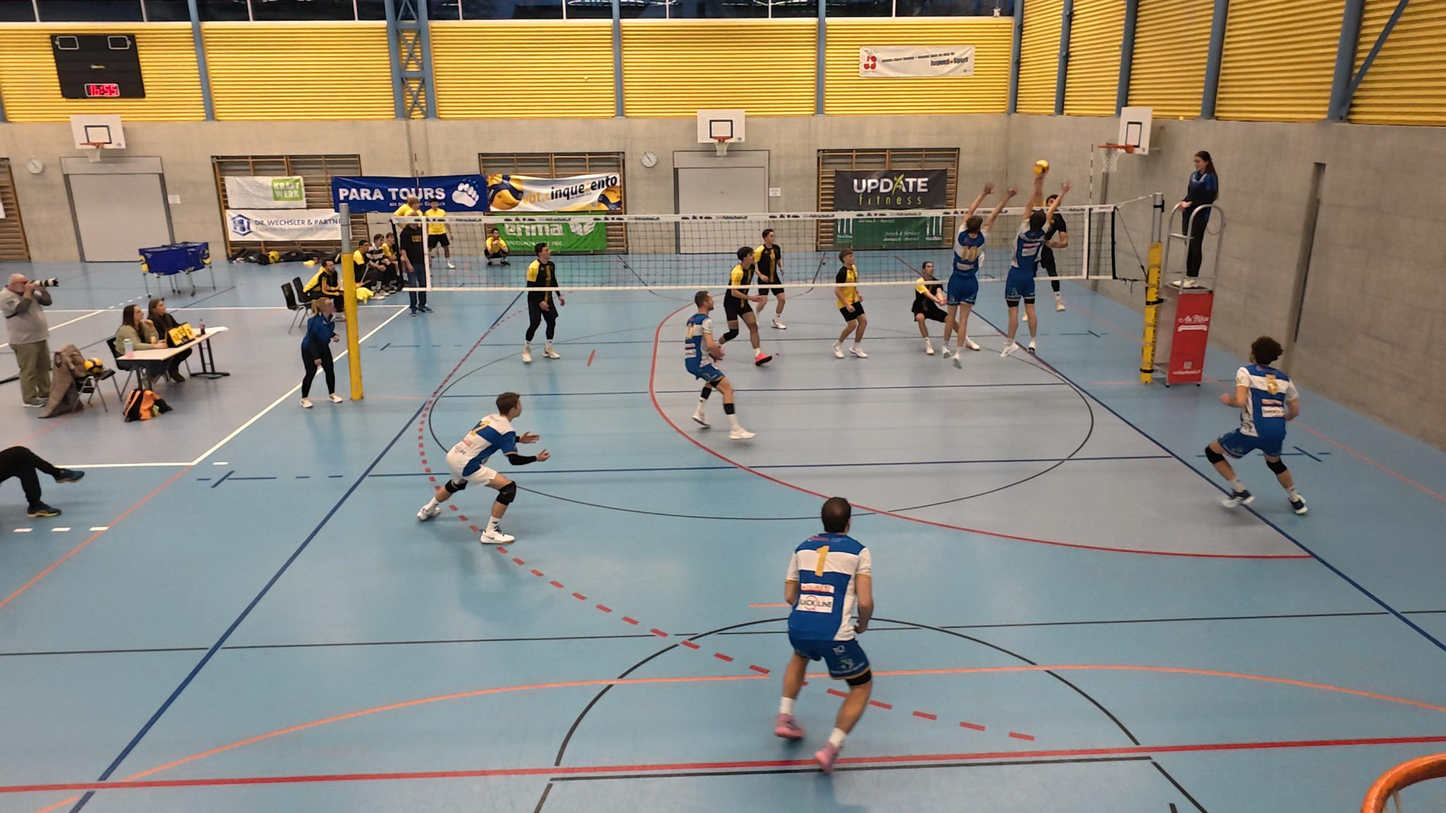attacco: (1028, 180, 1080, 317)
muro: (1001, 168, 1071, 366), (944, 179, 1008, 358)
